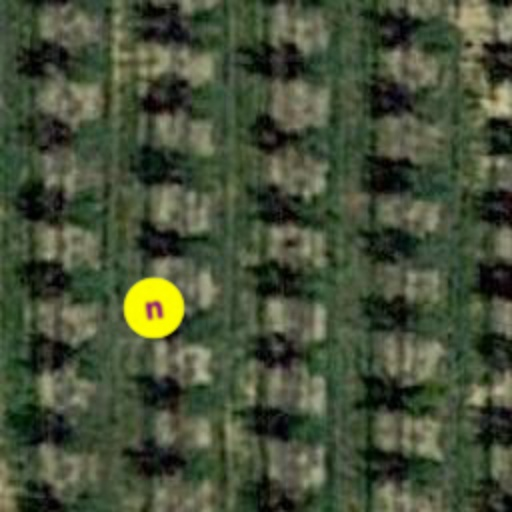circle: (118, 272, 190, 344)
